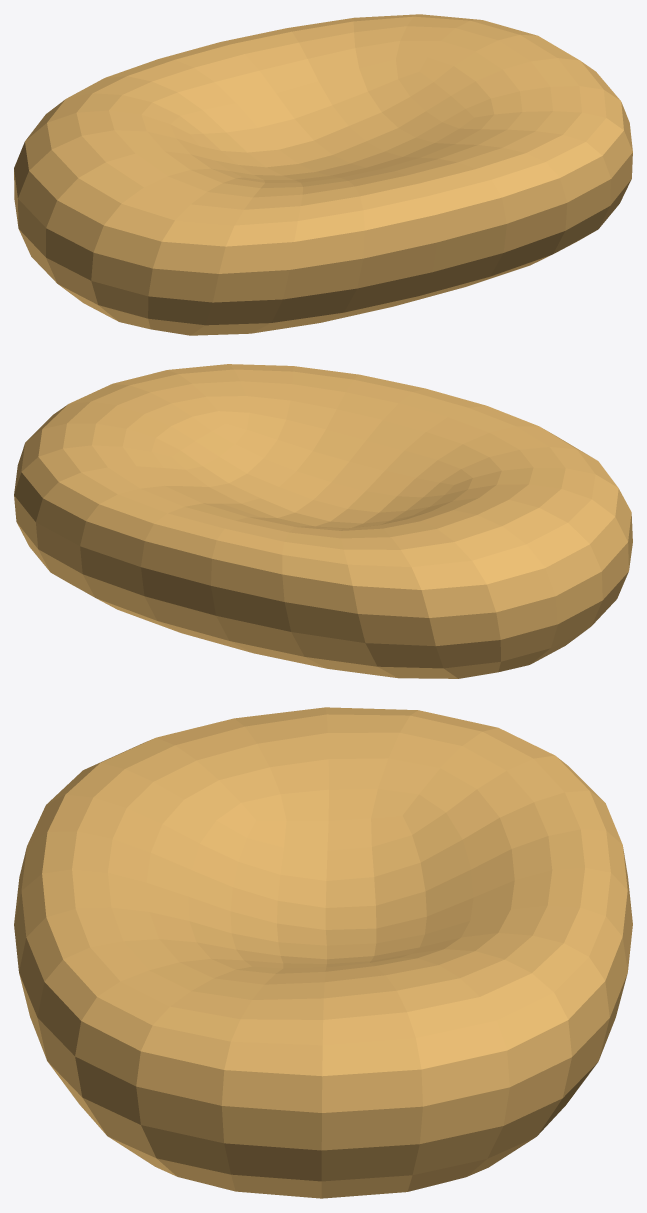
File: soap.fbx
3 views of the same model, one above another, from view 1: azimuth 30°, elevation 25°; view 2: azimuth 150°, elevation 25°; view 3: azimuth 270°, elevation 25° (orthographic). The views are drawn at different scales.
Parts seen in each view (by area): view 1: 立方體; view 2: 立方體; view 3: 立方體.
Part boxes in pixels (x1,y1,x2,y2): 立方體: (14,14,632,335); 立方體: (14,364,632,678); 立方體: (14,707,632,1198).
Bounding box in the file's own units: 558 × 164 × 394.
